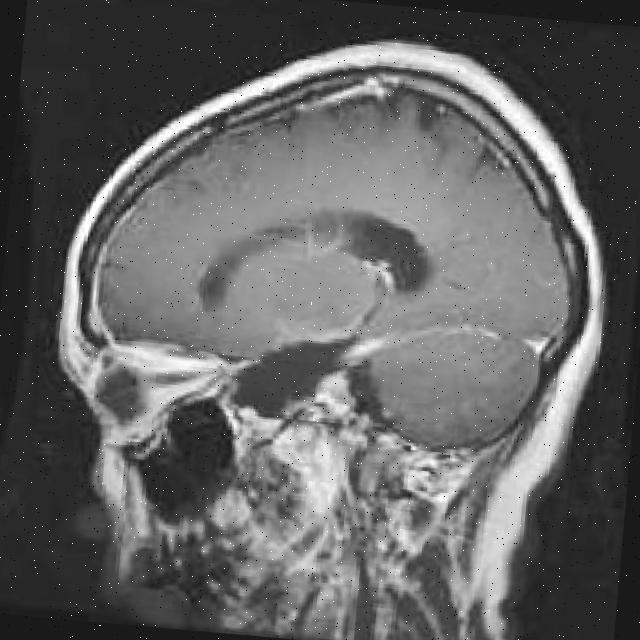LMCI: (316, 268, 421, 336)
